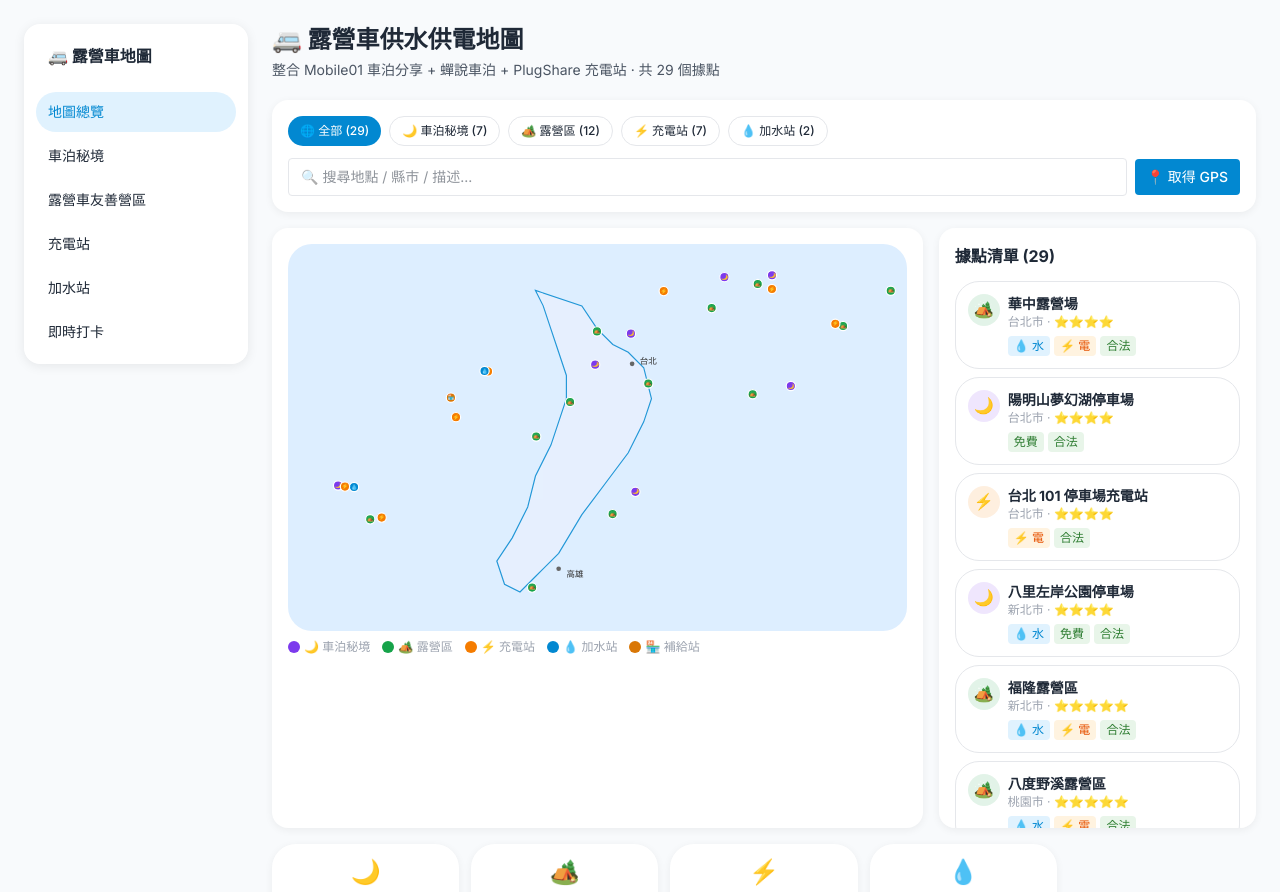
Test: Sprint 3 — 導覽列與路由 › 點 checkin 連結會導到 /checkin
Click the link with test id "nav-checkin": (76, 332) [48,323,104,340]
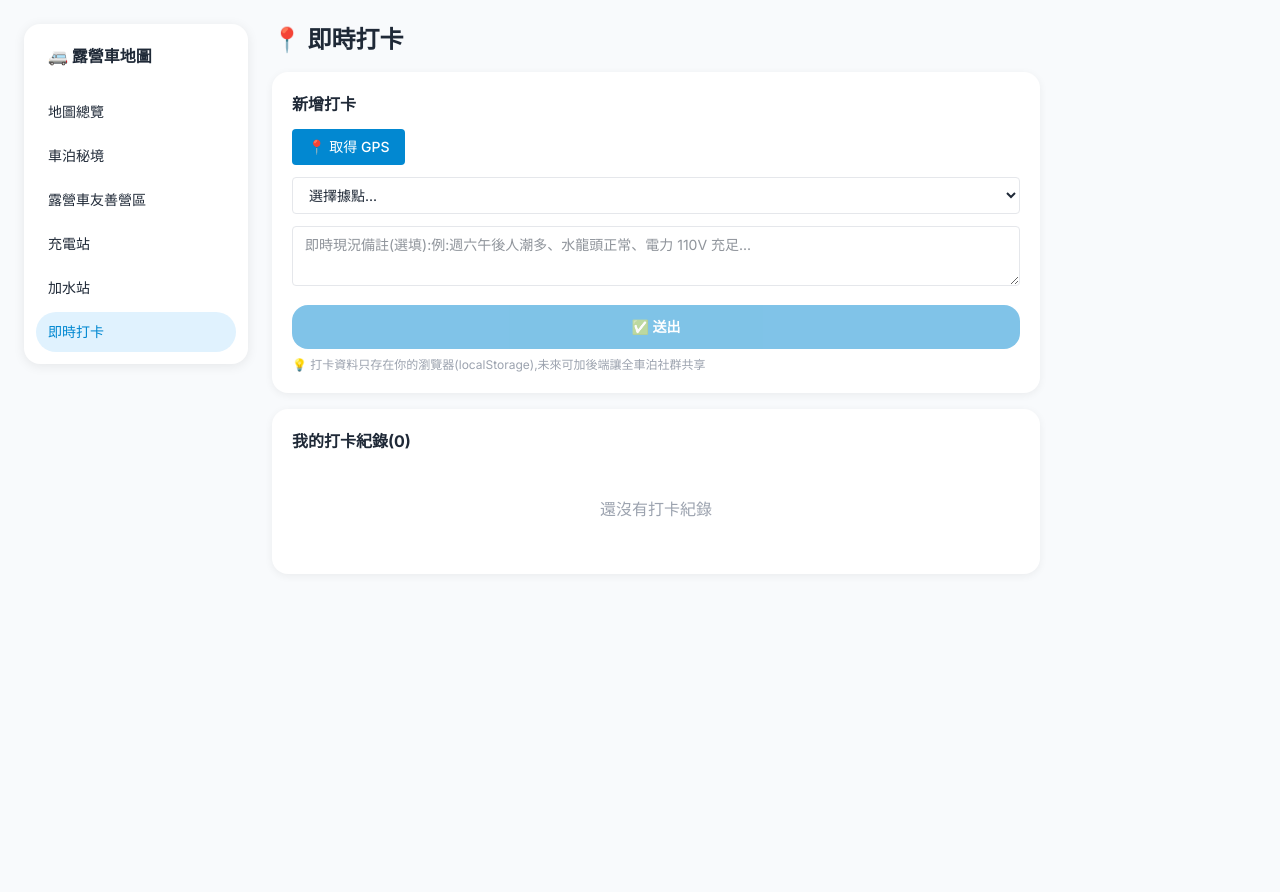
Result: the dropdown with test id "spot-select" is shown at [292,177,1020,214]
Result: the button with test id "checkin-submit" is shown at [292,305,1020,349]
